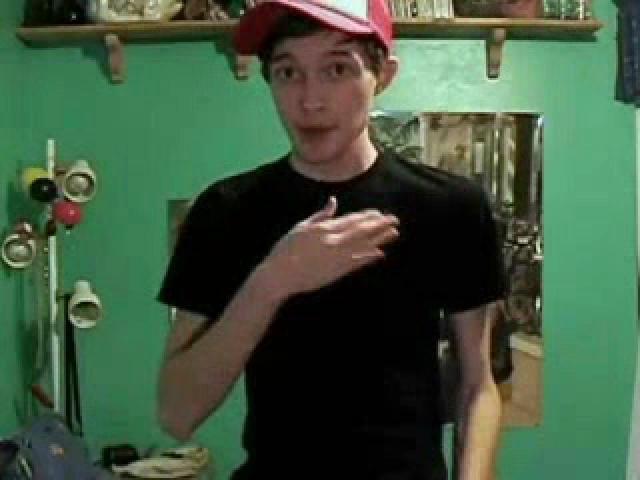F: (155, 5, 501, 476)
